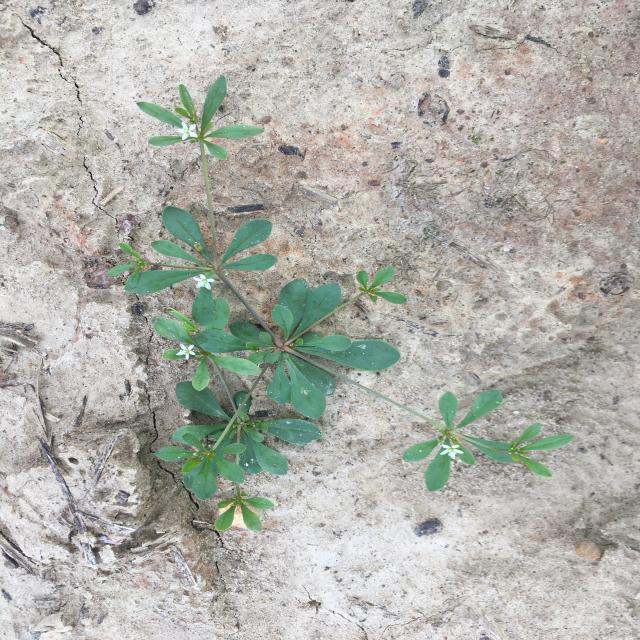Carpetweed: (105, 75, 575, 532)
